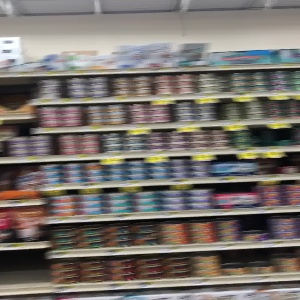void: (1, 252, 51, 289)
